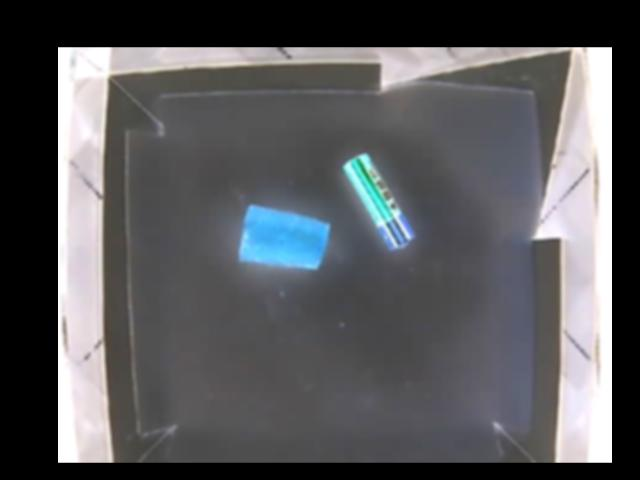Battery: (344, 154, 418, 250)
Carrot: (238, 203, 331, 270)
